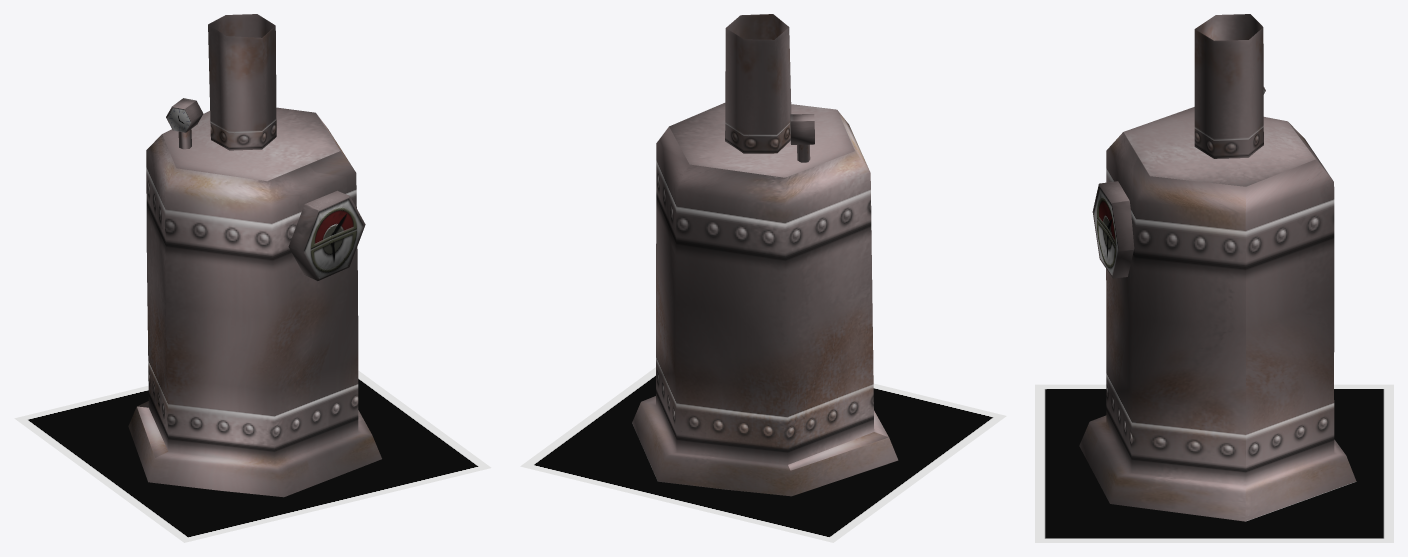
The model's file is boiler_a1.fbx.
3 renders of one model, left to right at view 1: azimuth 30°, elevation 25°; view 2: azimuth 150°, elevation 25°; view 3: azimuth 270°, elevation 25°, orthographic. The views are drawn at different scales.
Visible parts, largest first — view 1: SmallBoiler2, circleshadow1; view 2: SmallBoiler2, circleshadow1; view 3: SmallBoiler2, circleshadow1.
Part boxes in pixels (bbox=[...]): SmallBoiler2: bbox=[128, 14, 381, 497]; circleshadow1: bbox=[14, 370, 491, 542]; SmallBoiler2: bbox=[632, 14, 898, 496]; circleshadow1: bbox=[520, 367, 1006, 542]; SmallBoiler2: bbox=[1079, 14, 1356, 521]; circleshadow1: bbox=[1035, 384, 1393, 542].
Size of what is drawn, in the model's own units: 11.15 by 14.35 by 10.69.
Materials: 6 (6 with a texture image).
